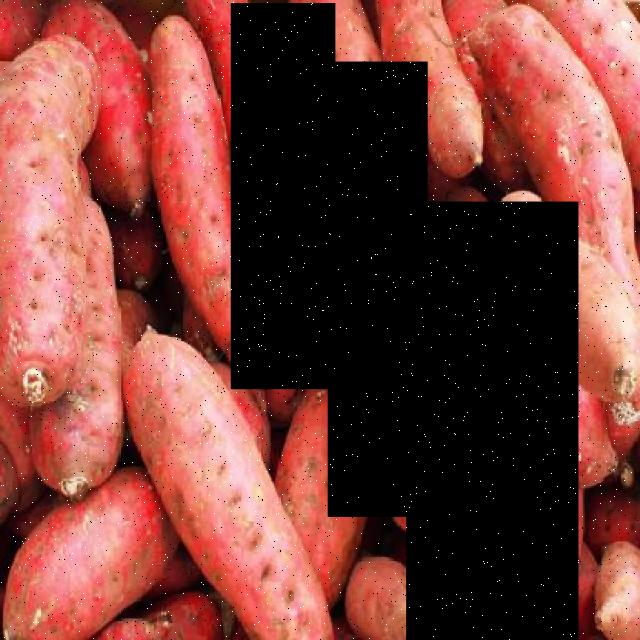Sweet_Potato: (406, 201, 578, 640), (328, 61, 428, 517), (231, 3, 335, 389)
